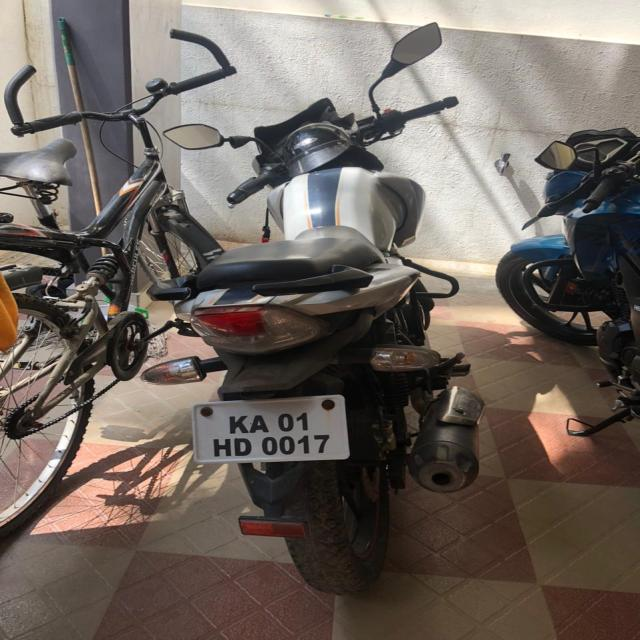license_plate: (190, 394, 350, 464)
